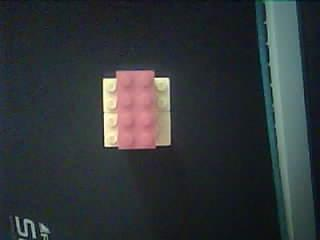lego: (102, 69, 171, 150)
